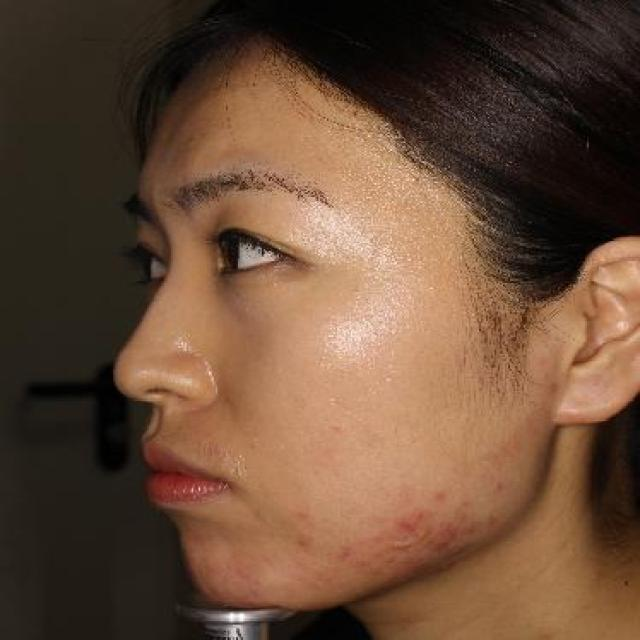Acne: (384, 504, 438, 532), (422, 523, 463, 556), (287, 528, 319, 556), (330, 540, 360, 564)
